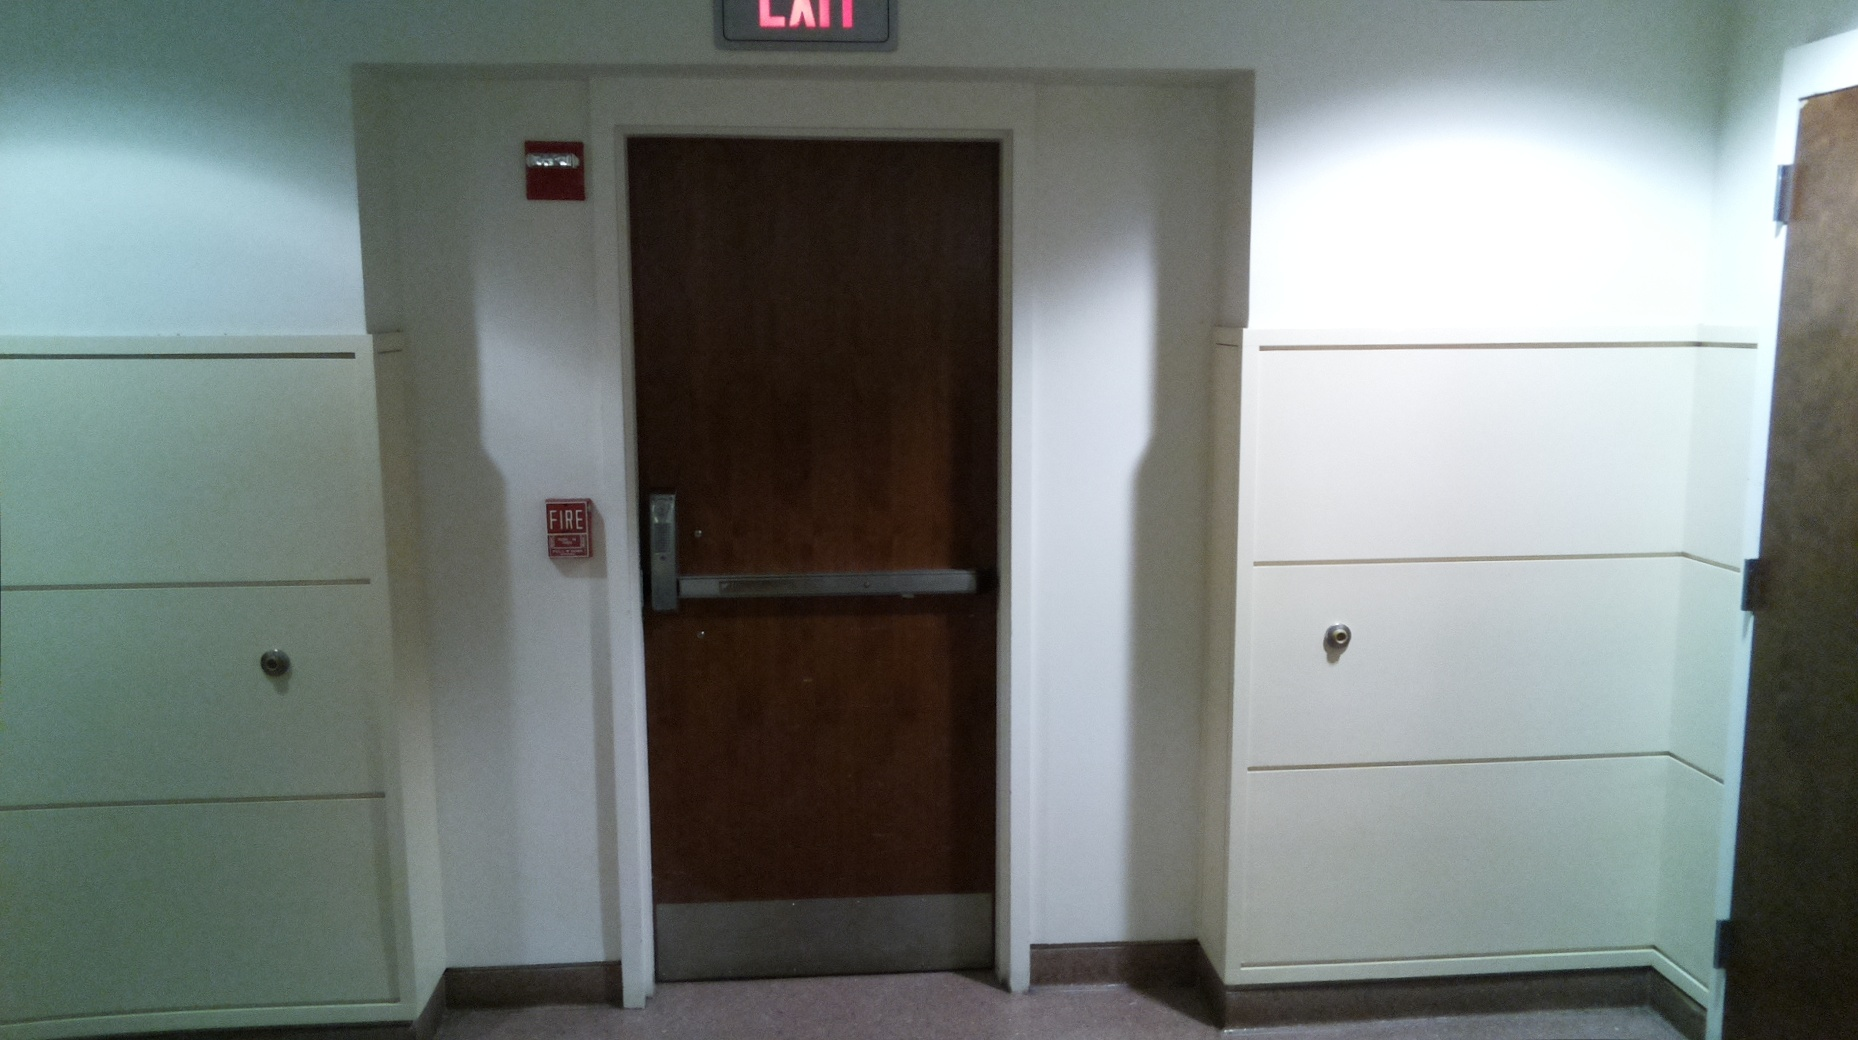exit sign: (708, 1, 909, 59)
